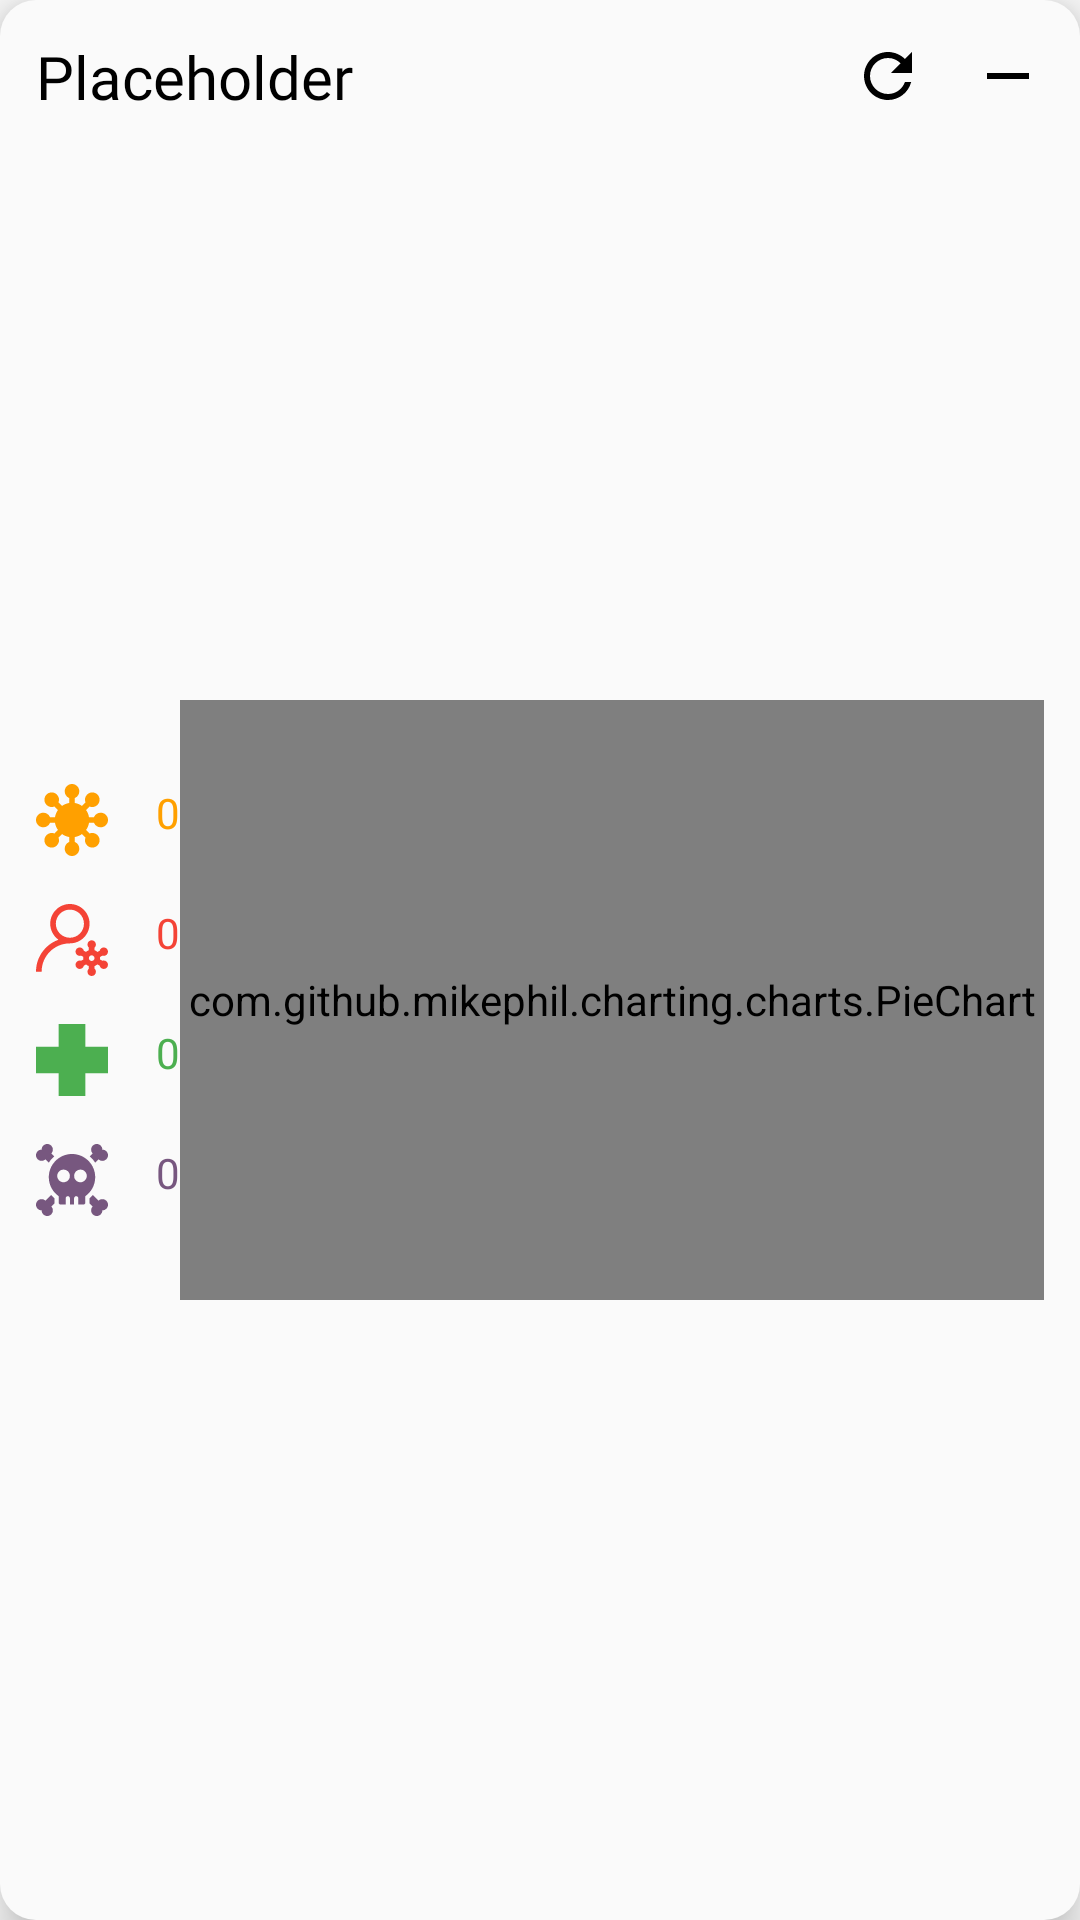

Icons on this 1080*1920 Android screen, each with the point to tap as [x,y]:
refresh: [888,76]
